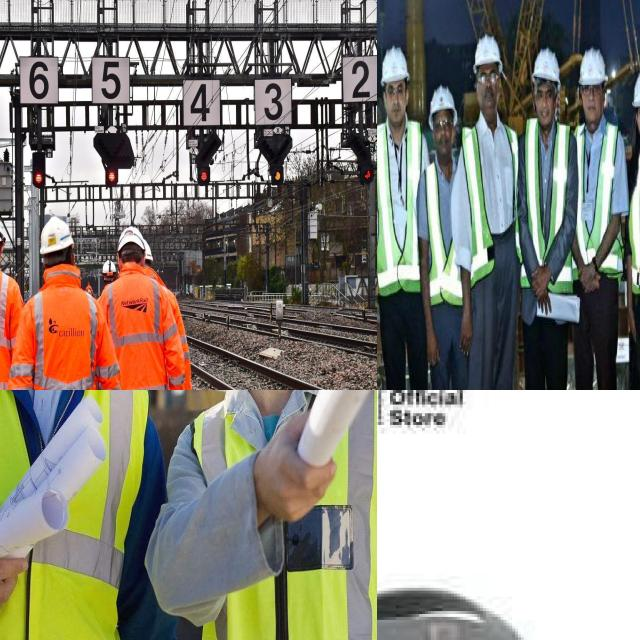Sandals: (377, 523, 640, 640)
face_nomask: (477, 62, 501, 121), (581, 78, 603, 130), (434, 110, 454, 158), (386, 84, 408, 124), (537, 84, 555, 126)
hand_noglove: (250, 412, 339, 528), (0, 493, 34, 627), (531, 282, 554, 312), (582, 265, 600, 300), (458, 314, 473, 351), (425, 332, 440, 368), (627, 305, 640, 346), (533, 266, 547, 301)
head_helmet: (39, 216, 75, 255), (579, 53, 607, 89), (473, 35, 502, 69), (430, 84, 456, 120), (530, 49, 560, 80), (381, 49, 406, 85), (118, 226, 146, 254), (632, 70, 640, 106), (102, 260, 117, 276), (145, 241, 154, 262)
person: (147, 390, 377, 640), (0, 390, 166, 640), (514, 45, 573, 390), (461, 35, 518, 390), (569, 50, 628, 390), (9, 218, 117, 390), (377, 46, 422, 390), (99, 230, 186, 390), (420, 83, 464, 390), (622, 65, 640, 390)
vest: (185, 390, 377, 640), (0, 390, 145, 640), (95, 273, 187, 390), (17, 283, 105, 390), (467, 124, 518, 266), (522, 121, 572, 264), (377, 123, 419, 286), (576, 128, 619, 258), (428, 159, 464, 305), (0, 265, 20, 390), (626, 139, 640, 290)
